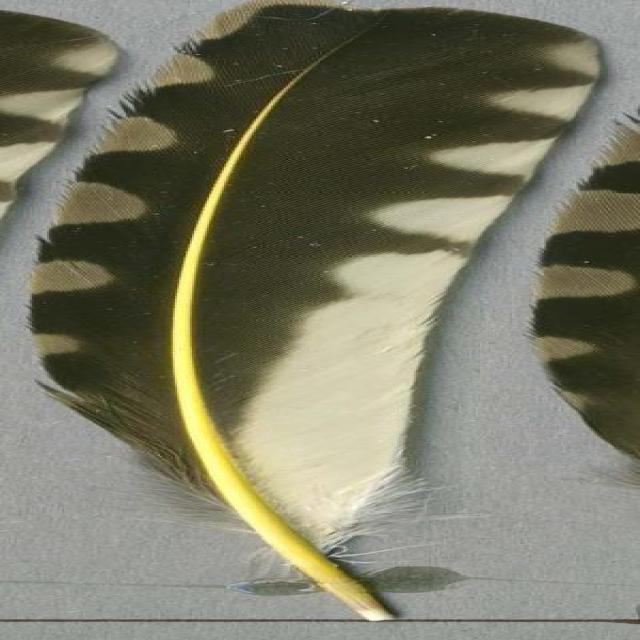feather: (16, 0, 629, 622)
